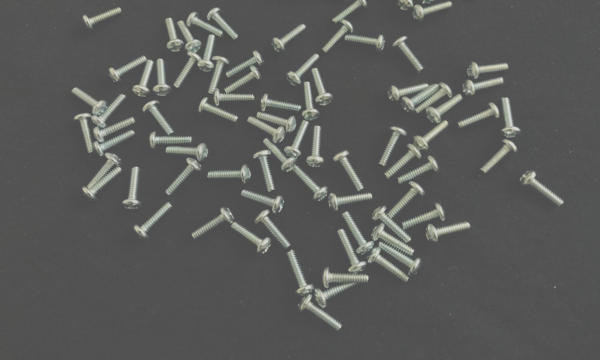shortscrew: (298, 294, 343, 333), (133, 202, 173, 242), (372, 206, 414, 244), (520, 171, 565, 206), (368, 247, 410, 284), (378, 243, 423, 277), (83, 166, 124, 203), (192, 207, 235, 242), (387, 181, 426, 219), (254, 210, 292, 249), (165, 158, 203, 197), (341, 212, 375, 255), (292, 165, 330, 203), (86, 152, 123, 191), (480, 140, 518, 177), (384, 144, 423, 180), (373, 225, 416, 257), (232, 221, 272, 255), (333, 150, 365, 192), (287, 251, 316, 297), (392, 36, 426, 75), (397, 155, 441, 185), (338, 229, 367, 274), (315, 281, 363, 308), (457, 103, 501, 132), (93, 116, 138, 144), (91, 93, 126, 129), (378, 127, 408, 168), (263, 138, 298, 173), (414, 82, 453, 113), (108, 55, 148, 85), (402, 203, 446, 230), (286, 54, 322, 87), (207, 7, 240, 43), (271, 23, 308, 55), (401, 84, 441, 113), (413, 121, 450, 152), (92, 131, 136, 157), (426, 94, 464, 124), (225, 50, 265, 78), (143, 100, 174, 136), (426, 221, 472, 245), (198, 97, 240, 123), (247, 116, 286, 144), (323, 20, 354, 55), (241, 190, 284, 215), (71, 87, 108, 116), (322, 267, 370, 289), (224, 66, 263, 93), (253, 150, 277, 193), (187, 11, 225, 38), (284, 120, 309, 161), (412, 0, 454, 23), (310, 68, 334, 108), (83, 7, 123, 31), (499, 98, 522, 138), (257, 112, 297, 135), (331, 0, 369, 24), (207, 56, 230, 95), (177, 20, 203, 54), (462, 77, 506, 97), (207, 165, 253, 184), (260, 94, 303, 114), (132, 60, 154, 99), (328, 193, 373, 212), (74, 113, 95, 153), (467, 62, 510, 81), (387, 83, 430, 102), (165, 143, 208, 162), (149, 132, 192, 151), (345, 33, 385, 53), (306, 126, 325, 168), (302, 81, 321, 121), (212, 89, 255, 106), (197, 34, 215, 74), (165, 18, 185, 54), (155, 59, 173, 98), (398, 0, 427, 13), (418, 0, 439, 5)
